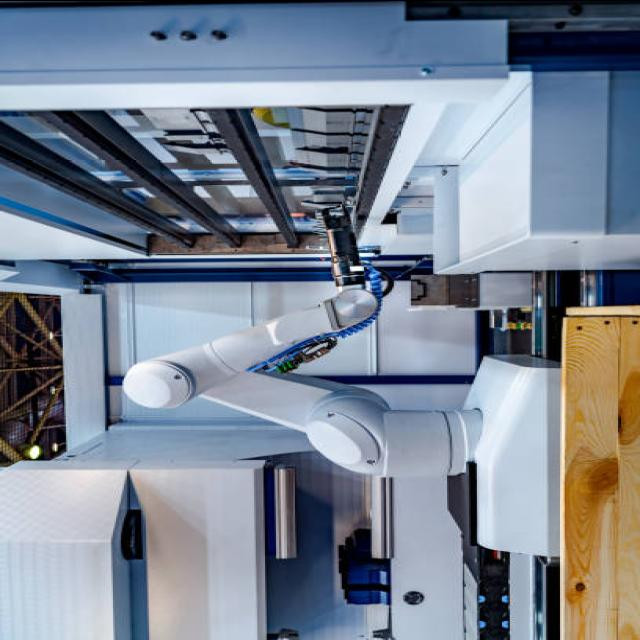Robotic-arm: (120, 277, 569, 557)
